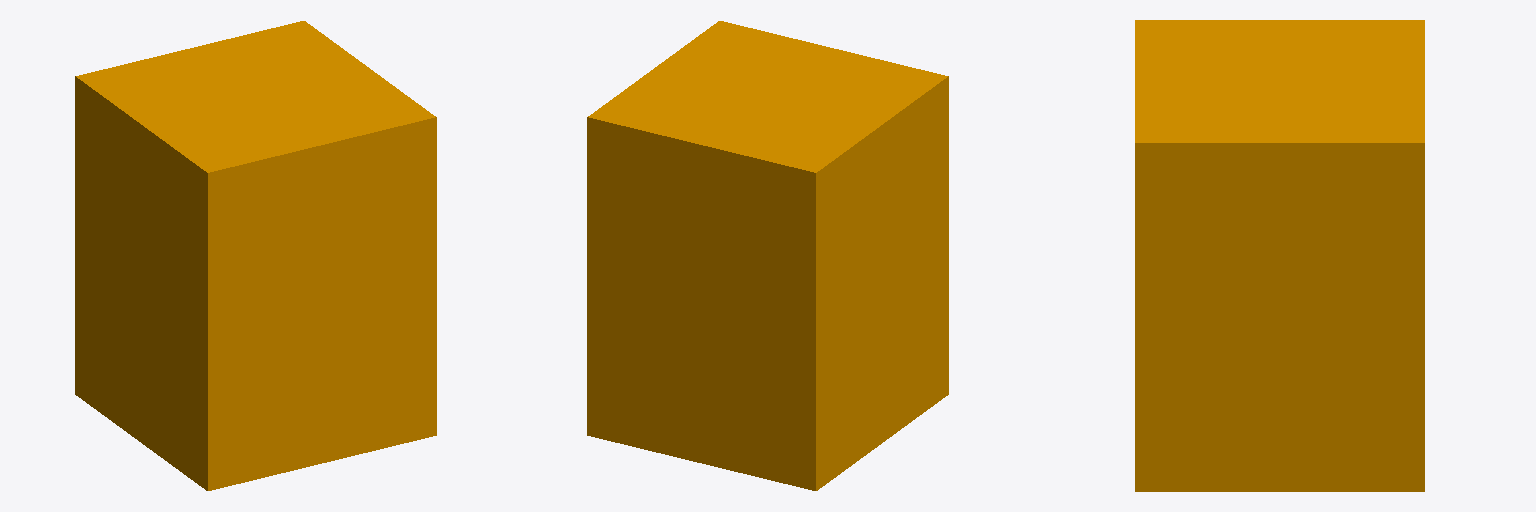
URDF robot description (big.off):
<?xml version="1.0"?>
<robot name="big.off">
	<link name="big.off">
		<inertial>
			<!--origin xyz="0 0 0" rpy="0 0 0" /-->
			<mass value="0.5" />
			<!--inertia ixx="0.000360" ixy="0" ixz="0" iyy="0.0000615" iyz="0" izz="0.00036" /-->
		</inertial>
    		<visual>
	      		<!--origin rpy="0 0 0" xyz="0 0 0"/-->
      			<geometry>
        			<mesh filename="big.off.obj"/>
      			</geometry>
         	</visual>
    		<collision>
      			<!--origin rpy="0 0 0" xyz="0 0 0"/-->
      			<geometry>
        			<mesh filename="big.off.obj"/>
      			</geometry>
    		</collision>
	</link>
</robot>

--- What the picture shows (computed from the rendered views, not written in the file) ---
Views: 3 orthographic renders of the robot side by side, from view 1: azimuth 30°, elevation 25°; view 2: azimuth 150°, elevation 25°; view 3: azimuth 270°, elevation 25°.
Model big.off with 1 links and 0 joints (none), rooted at big.off, posed every joint at zero.
Visible links, largest first — view 1: big.off; view 2: big.off; view 3: big.off.
Link boxes in pixels (x1,y1,x2,y2): big.off: (75, 21, 436, 490); big.off: (587, 21, 948, 490); big.off: (1135, 20, 1424, 491).
Bounding box of the posed robot: 0.088 × 0.088 × 0.117 m (x, y, z).
Meshes: 1 distinct files referenced, 1 mesh visuals loaded (1 OBJ).
